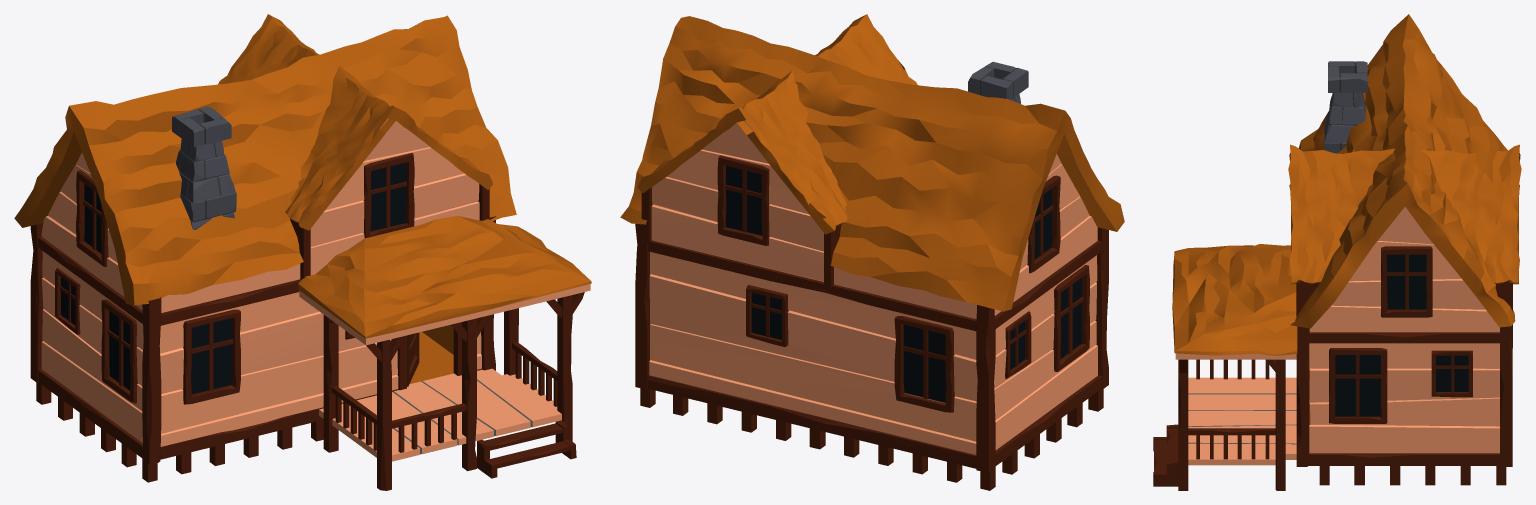
Rendered from House_1.001_1.fbx.
The picture shows the model from 3 angles, left to right: view 1: azimuth 30°, elevation 25°; view 2: azimuth 150°, elevation 25°; view 3: azimuth 270°, elevation 25°; orthographic projection. The views are drawn at different scales.
Visible parts, largest first — view 1: House_1.001_1; view 2: House_1.001_1; view 3: House_1.001_1.
Boxes of the visible parts, left/top/right/bottom form: House_1.001_1: left=14, top=14, right=591, bottom=490; House_1.001_1: left=620, top=14, right=1124, bottom=490; House_1.001_1: left=1153, top=14, right=1521, bottom=490.
Size of the model in its own units: 260 by 211 by 227.
